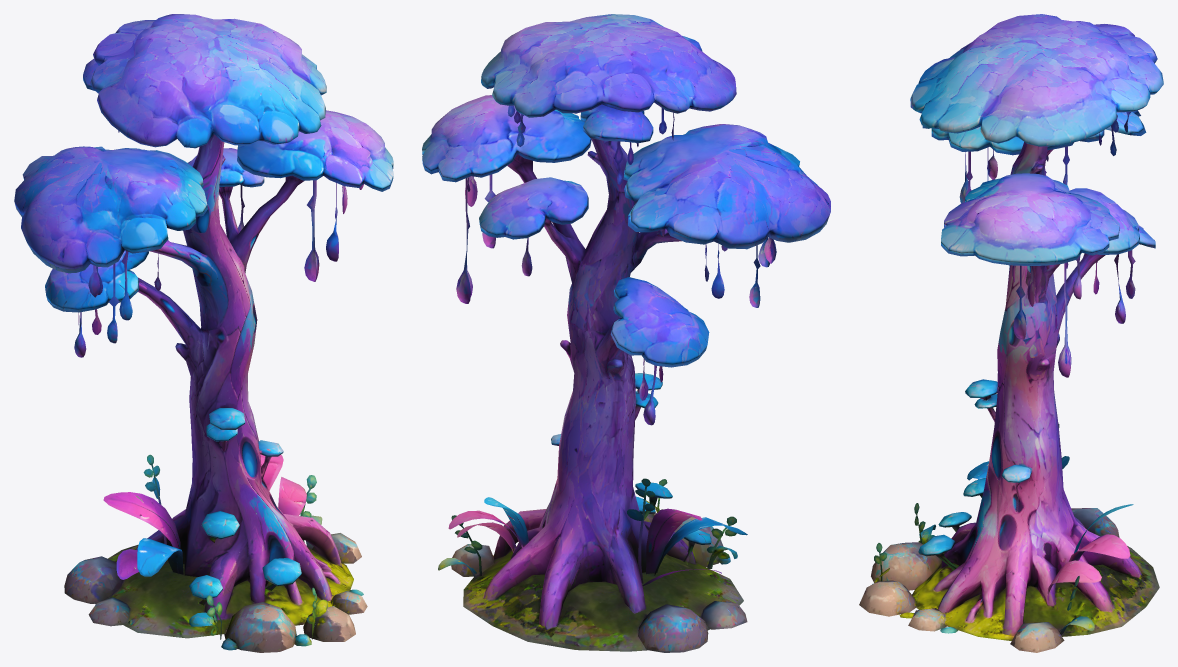
The model's file is alien_tree_large_01.glb.
3 views of the same model, side by side, from view 1: azimuth 30°, elevation 25°; view 2: azimuth 150°, elevation 25°; view 3: azimuth 270°, elevation 25° (orthographic). The views are drawn at different scales.
Parts seen in each view (by area): view 1: tripo_node_7d32e137-ef16-4a26-a442-4a14aa78e1c5; view 2: tripo_node_7d32e137-ef16-4a26-a442-4a14aa78e1c5; view 3: tripo_node_7d32e137-ef16-4a26-a442-4a14aa78e1c5.
Boxes of the visible parts, x1,y1,x2,y2 form: tripo_node_7d32e137-ef16-4a26-a442-4a14aa78e1c5: (14, 14, 393, 652); tripo_node_7d32e137-ef16-4a26-a442-4a14aa78e1c5: (422, 14, 830, 652); tripo_node_7d32e137-ef16-4a26-a442-4a14aa78e1c5: (859, 14, 1163, 652).
Size of the model in its own units: 0.6772 by 0.9995 by 0.5073.
Materials: 1 (1 with a texture image).
